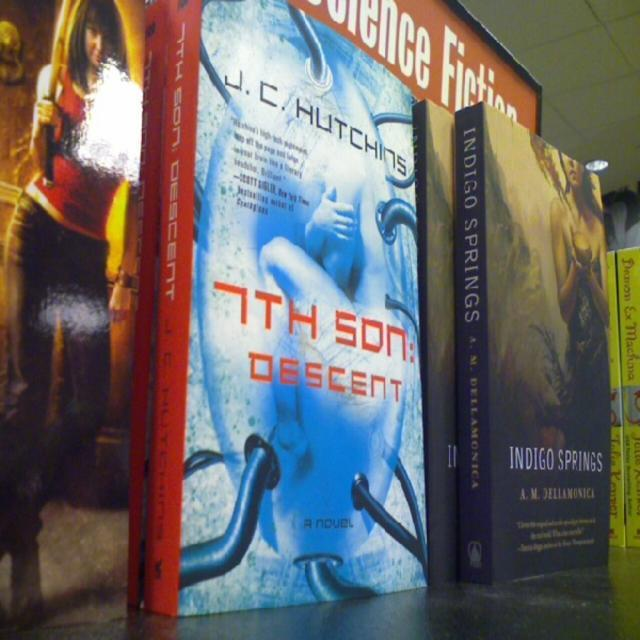book: (135, 1, 426, 602), (451, 95, 607, 603)
